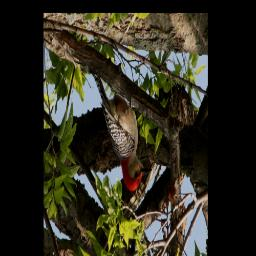Woodpecker: (90, 69, 153, 195)
